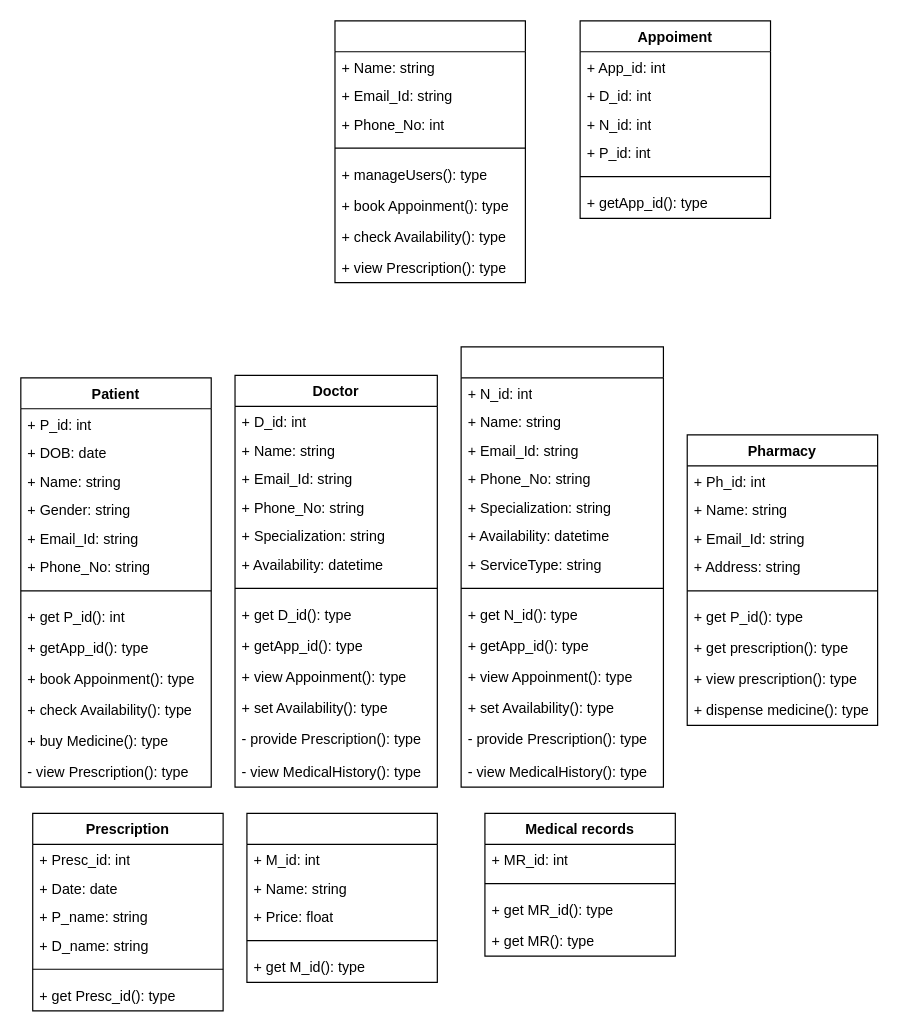
Some shapes in this 898 by 1035 pixel diagram are drawn without their labels. The box of each missing label's shape, as (x1, y1, x2, y2) in pixels:
Admin: (334, 20, 525, 283)
Medicine: (246, 812, 437, 982)
Nurse: (460, 346, 663, 787)
